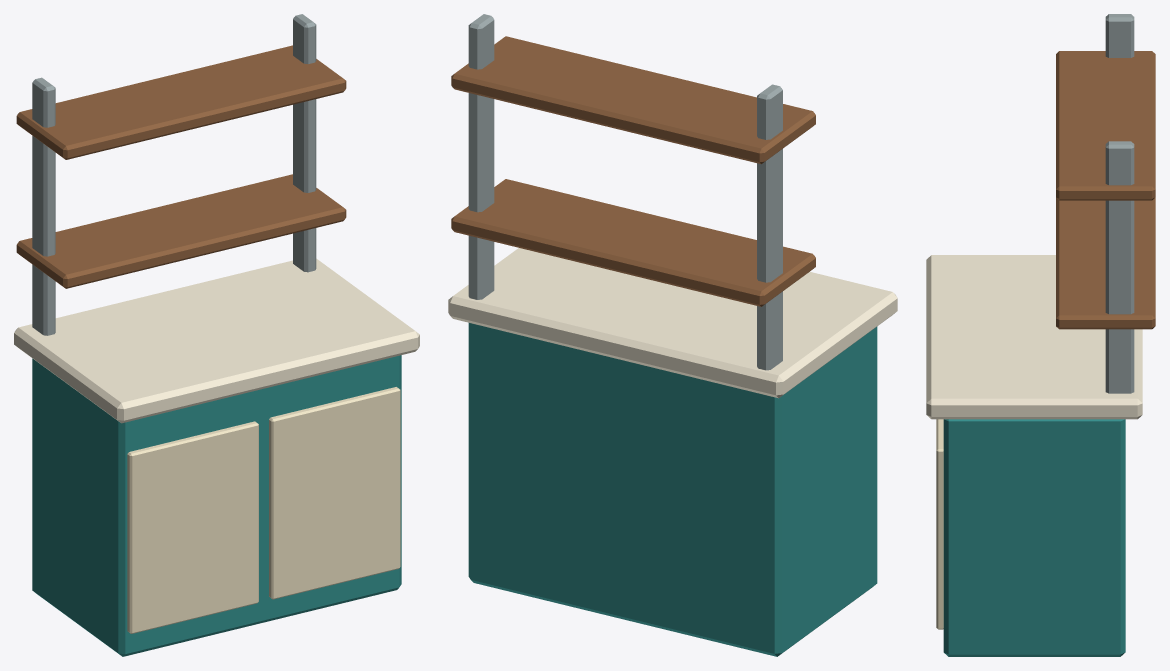
File: Back_Bar_A.glb
3 renders of one model, left to right at view 1: azimuth 30°, elevation 25°; view 2: azimuth 150°, elevation 25°; view 3: azimuth 270°, elevation 25°, orthographic. The views are drawn at different scales.
Parts seen in each view (by area): view 1: Back_Bar_A; view 2: Back_Bar_A; view 3: Back_Bar_A.
Part boxes in pixels (x1,y1,x2,y2): Back_Bar_A: (14, 14, 419, 656); Back_Bar_A: (448, 14, 897, 656); Back_Bar_A: (926, 14, 1155, 656).
Bounding box in the file's own units: 1.23 × 1.98 × 0.805.
